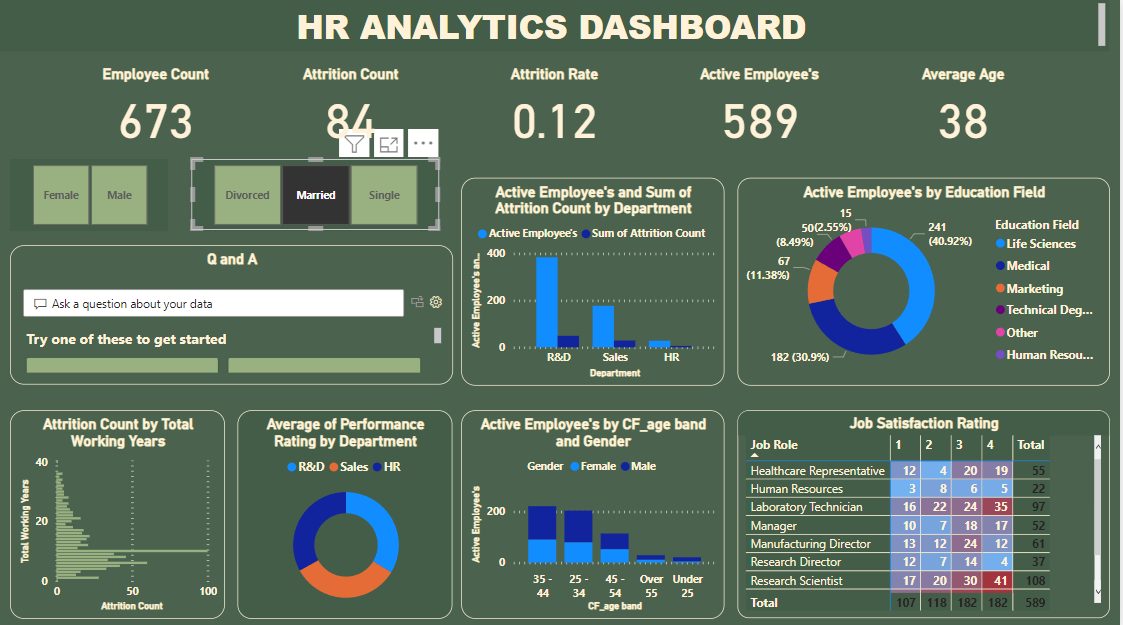

This screenshot's page, from the dashboard's own definition file:
{"tool":"powerbi","page":{"name":"Page 1","canvas":[1280,720],"ordinal":0},"visuals":[{"type":"card","title":"Employee Count","fields":{"Values":["Sum(HR data.Employee Count)"]},"box":[96.1,75.5,164.7,94.7],"z":0,"group":"g1"},{"type":"card","title":"Attrition Count","fields":{"Values":["Sum(HR data.Attrition Count)"]},"box":[318.9,76,164.7,94.7],"z":1000,"group":"g1"},{"type":"card","title":"Average Age","fields":{"Values":["Avg(HR data.Age)"]},"box":[1018.8,76,164.7,94.7],"z":2000,"group":"g1"},{"type":"card","title":"Active Employee''s","fields":{"Values":["HR data.Active Employee's"]},"box":[785.5,76,164.7,94.7],"z":3000,"group":"g1"},{"type":"card","title":"Attrition Rate","fields":{"Values":["HR data.Attrition Rate"]},"box":[552.2,76,164.7,94.7],"z":4000,"group":"g1"},{"type":"clusteredColumnChart","fields":{"Category":["HR data.Department"],"Y":["HR data.Active Employee's","Sum(HR data.Attrition Count)"]},"box":[526.9,204.5,300.5,237.4],"z":5000},{"type":"donutChart","fields":{"Y":["HR data.Active Employee's"],"Category":["HR data.Education Field"]},"box":[842.5,204.5,425.4,237.4],"z":6000},{"type":"columnChart","fields":{"Category":["HR data.CF_age band"],"Y":["HR data.Active Employee's"],"Series":["HR data.Gender"]},"box":[526.9,470.7,300.5,238.8],"z":7000},{"type":"pivotTable","title":"Job Satisfaction Rating","fields":{"Rows":["HR data.Job Role"],"Values":["HR data.Active Employee's"],"Columns":["HR data.Job Satisfaction"]},"box":[842.5,470.7,425.4,237.4],"z":8000},{"type":"donutChart","fields":{"Y":["Avg(HR data.Performance Rating)"],"Category":["HR data.Department"]},"box":[271.7,470.7,245.6,238.8],"z":9000},{"type":"qnaVisual","title":"Q and A","box":[11,281.3,506.3,159.2],"z":10000},{"type":"clusteredBarChart","title":" Attrition Count by Total Working Years","fields":{"Category":["HR data.Total Working Years"],"Y":["CountNonNull(HR data.Attrition Count)"]},"box":[11,470.7,245.6,238.8],"z":10001},{"type":"slicer","fields":{"Values":["HR data.Gender"]},"box":[11,182.5,181.1,82.3],"z":10002},{"type":"slicer","fields":{"Values":["HR data.Marital Status"]},"box":[218.2,182.5,282.7,82.3],"z":10003},{"type":"group","id":"g1","title":"Group 1","box":[96.1,75.5,1086.8,94.7],"z":10004},{"type":"textbox","box":[0,0,1267.9,60.4],"z":10005}]}

Visuals, with their boxes in screenshot pixels (x1, y1, x2, y2), scaled from the page's 1280x720 canvas onto the 1123x625 screenshot:
"Employee Count" card: 84/66/229/148
"Attrition Count" card: 280/66/424/148
"Average Age" card: 894/66/1038/148
"Active Employee''s" card: 689/66/834/148
"Attrition Rate" card: 484/66/629/148
clusteredColumnChart - HR data.Department x HR data.Active Employee's: 462/178/726/384
donutChart - HR data.Active Employee's x HR data.Education Field: 739/178/1112/384
columnChart - HR data.CF_age band x HR data.Active Employee's: 462/409/726/616
"Job Satisfaction Rating" pivotTable: 739/409/1112/615
donutChart - Avg(HR data.Performance Rating) x HR data.Department: 238/409/454/616
"Q and A" qnaVisual: 10/244/454/382
" Attrition Count by Total Working Years" clusteredBarChart: 10/409/225/616
slicer - HR data.Gender: 10/158/169/230
slicer - HR data.Marital Status: 191/158/439/230
"Group 1" group: 84/66/1038/148
textbox: 0/0/1112/52
